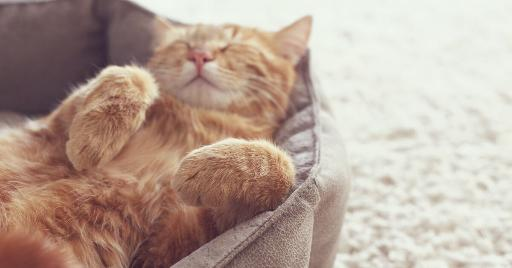cat_sleeping: (0, 16, 311, 268)
